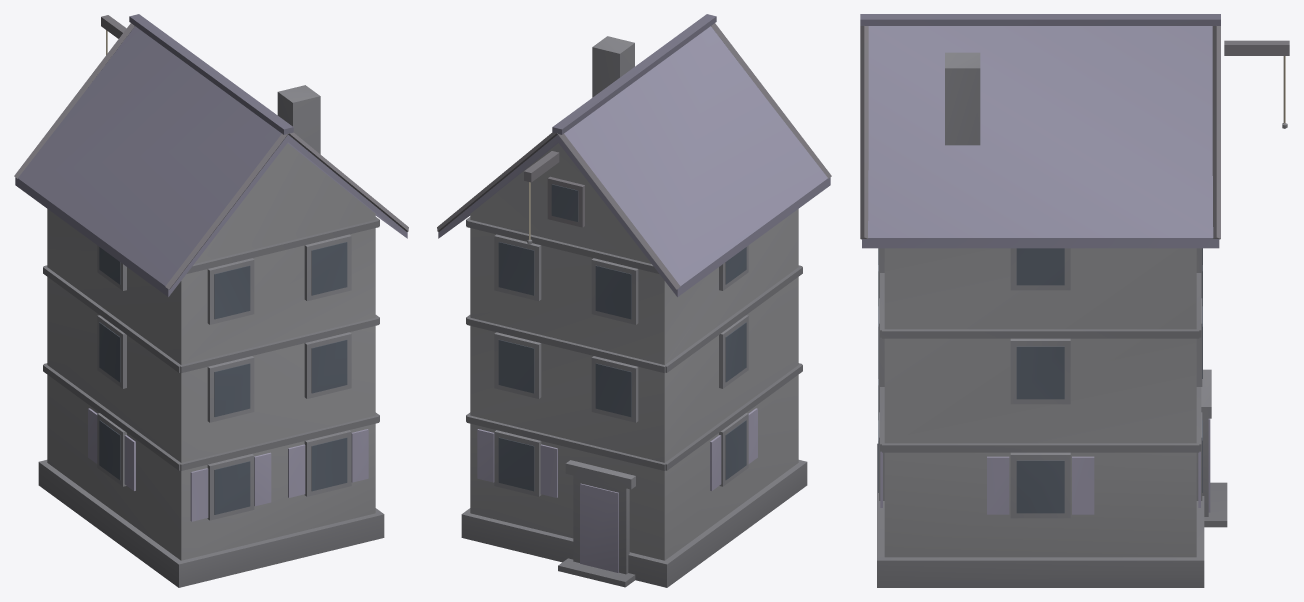
File: townhouse_storm.gltf
The picture shows the model from 3 angles, left to right: view 1: azimuth 30°, elevation 25°; view 2: azimuth 150°, elevation 25°; view 3: azimuth 270°, elevation 25°; orthographic projection. The views are drawn at different scales.
Parts seen in each view (by area): view 1: Body; view 2: Body; view 3: Body.
Boxes of the visible parts, <box> form: Body: <box>14,14,408,587</box>; Body: <box>437,14,831,587</box>; Body: <box>860,14,1289,587</box>.
Bounding box in the file's own units: 6.52 × 11.24 × 8.54.
